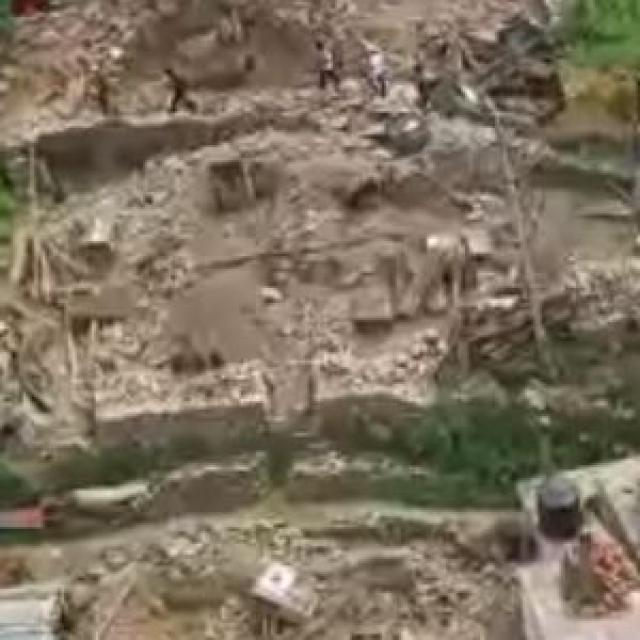collapsed_building: (2, 128, 597, 446)
